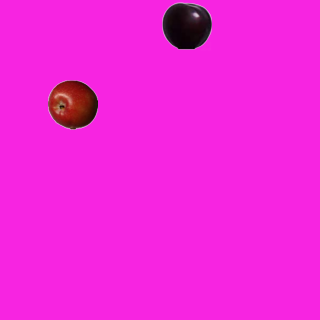Apple Braeburn: (47, 79, 97, 129)
Cherry Wax Black: (161, 0, 211, 50)
